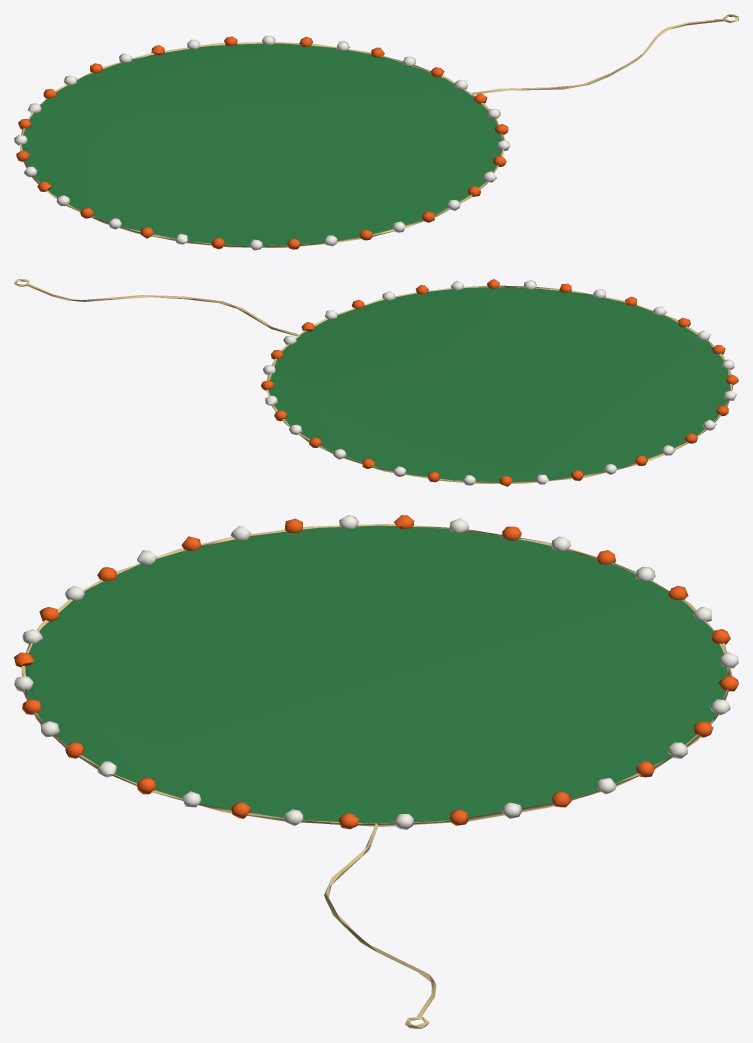
The model's file is f_nelayan_jaring_laut.glb.
3 renders of one model, top to bottom at view 1: azimuth 30°, elevation 25°; view 2: azimuth 150°, elevation 25°; view 3: azimuth 270°, elevation 25°, orthographic. The views are drawn at different scales.
Parts seen in each view (by area): view 1: green_nylon, rope_poly, float_orange, float_white; view 2: green_nylon, rope_poly, float_white, float_orange; view 3: green_nylon, float_white, float_orange, rope_poly.
Boxes of the visible parts, x1,y1,x2,y2 form: green_nylon: (21, 43, 502, 246); rope_poly: (19, 14, 738, 247); float_orange: (16, 36, 508, 249); float_white: (14, 35, 510, 250); green_nylon: (268, 287, 730, 482); rope_poly: (14, 279, 732, 483); float_white: (263, 280, 736, 485); float_orange: (261, 279, 738, 486); green_nylon: (25, 525, 727, 824); float_white: (14, 515, 738, 829); float_orange: (14, 515, 738, 829); rope_poly: (21, 523, 732, 1028).
Bounding box in the file's own units: 8.41 × 0.1137 × 5.12.
